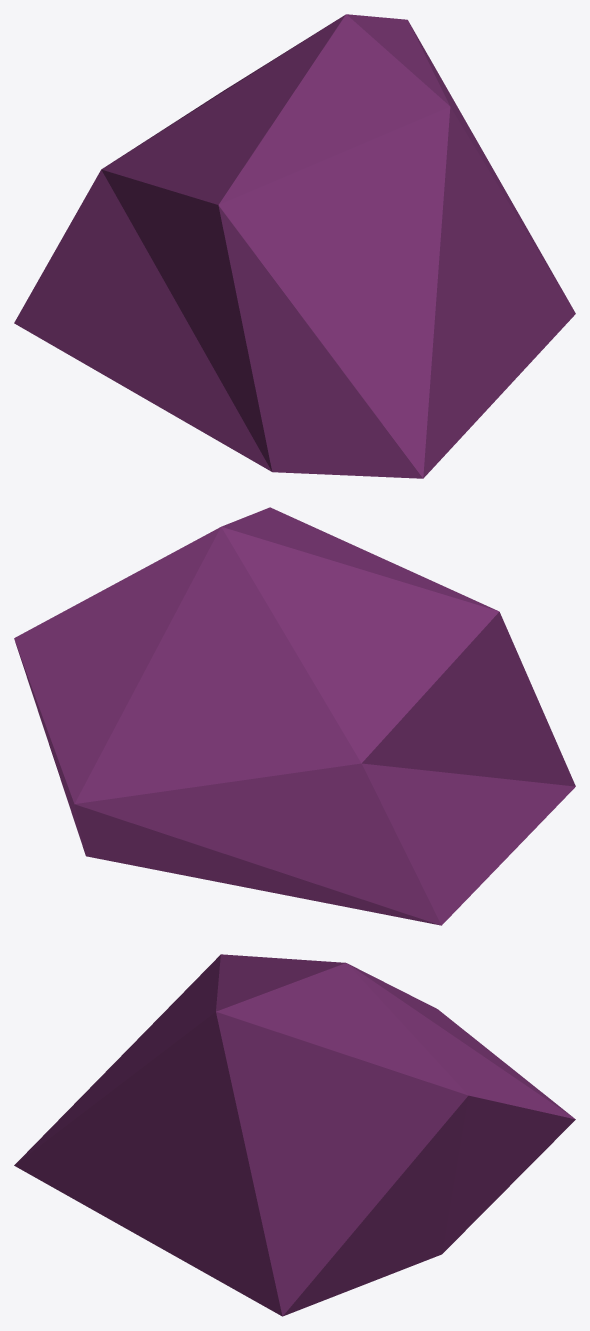
File: M_P_Rock1.FBX
3 renders of one model, top to bottom at view 1: azimuth 30°, elevation 25°; view 2: azimuth 150°, elevation 25°; view 3: azimuth 270°, elevation 25°, orthographic. The views are drawn at different scales.
Parts seen in each view (by area): view 1: GeoSphere067; view 2: GeoSphere067; view 3: GeoSphere067.
Part boxes in pixels (<box>): GeoSphere067: <box>14,14,575,478</box>; GeoSphere067: <box>14,507,575,925</box>; GeoSphere067: <box>14,954,575,1316</box>.
Size of the model in its own units: 170 by 111 by 206.
